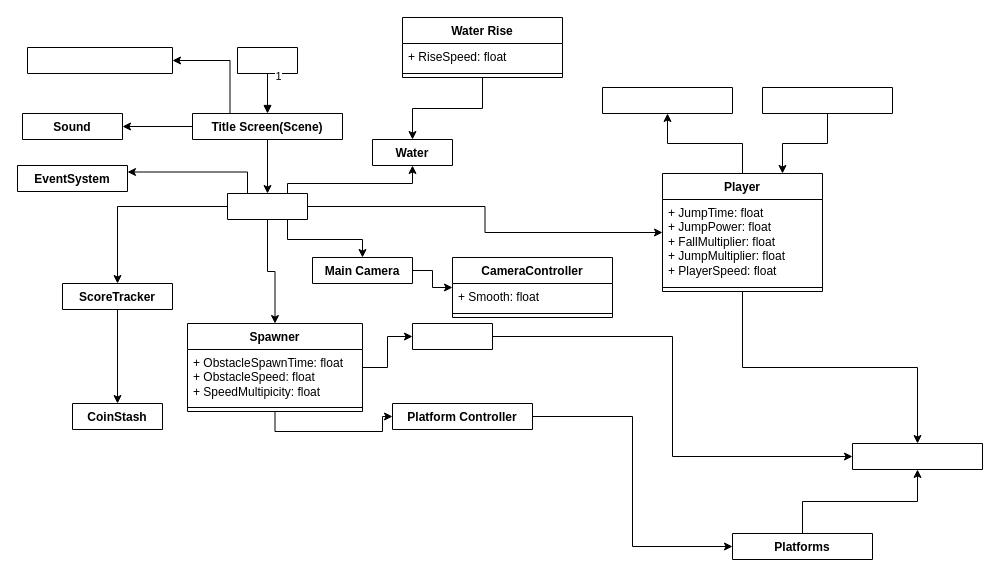
Image size: 1000x577. Some labels were removed from this diagram. Here are the shapes that lost their labels. From the top down, the centre of each, then its label:
At point 99,60: "Title Screen(script)".
At point 267,60: "Unity".
At point 667,100: "PlayerMovement".
At point 827,100: "Change Sprite".
At point 267,206: "Game".
At point 452,336: "Enemies".
At point 917,456: "2D box Collision".
